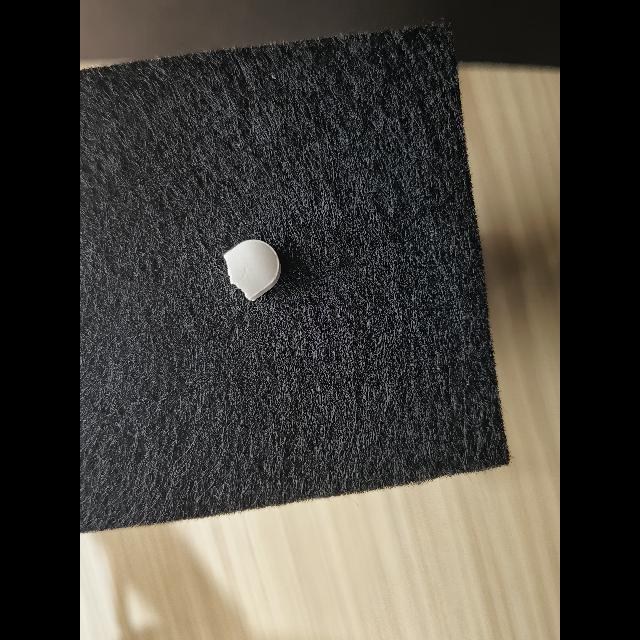Chipped Pill: (224, 239, 281, 301)
